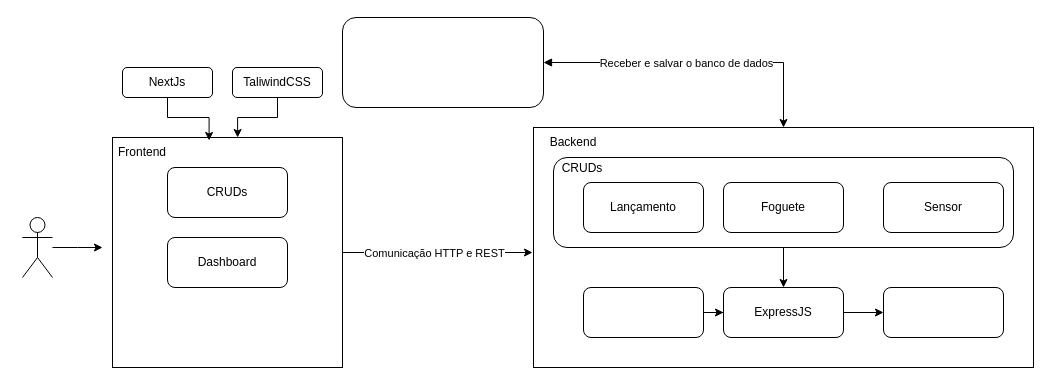
The diagram is 1051 pixels wide and 385 high, and some of its shapes have lost their labels. The shapes that lost their labels are listed below. From the top down, each one's centre as x and y in pixels, then its label:
At (443,62): "Supabase".
At (37,247): "Usuário".
At (643,312): "Configuração Supabase".
At (943,312): "NodeJS".
